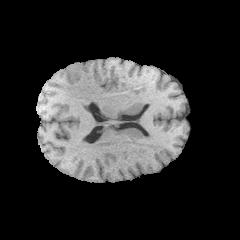glioma: (64, 65, 106, 111)
